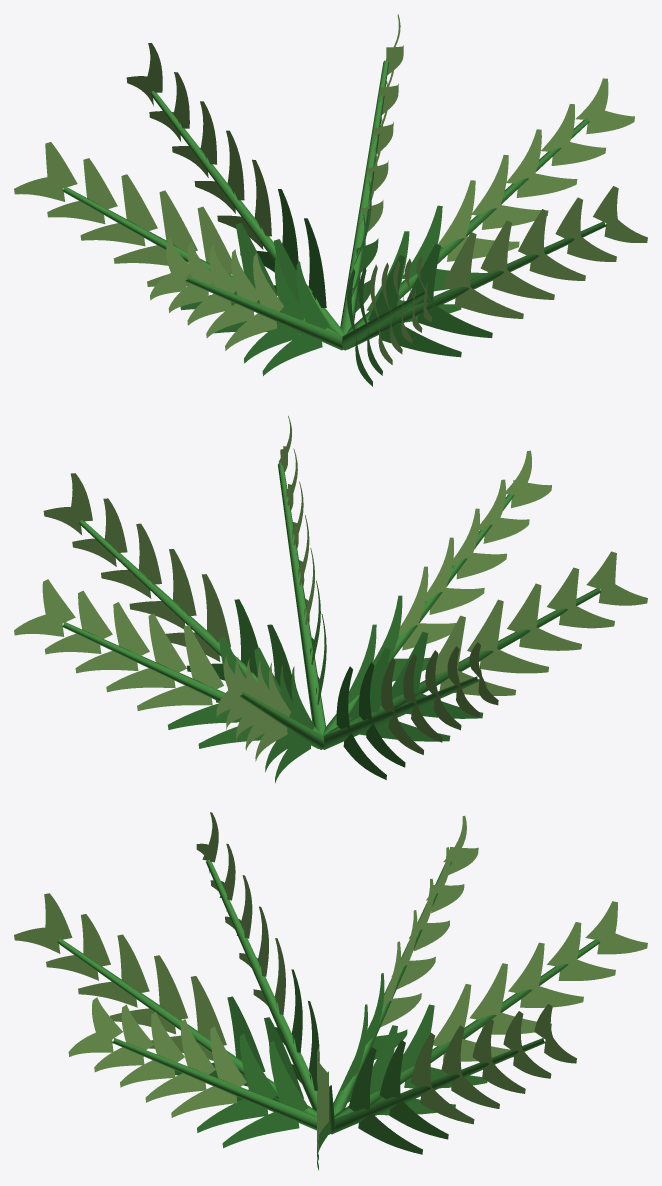
File: fern_aquatic.glb
3 views of the same model, one above another, from view 1: azimuth 30°, elevation 25°; view 2: azimuth 150°, elevation 25°; view 3: azimuth 270°, elevation 25° (orthographic).
Visible parts, largest first — view 1: fern_aquatic; view 2: fern_aquatic; view 3: fern_aquatic.
Boxes of the visible parts, x1,y1,x2,y2 form: fern_aquatic: (14,14,647,386); fern_aquatic: (14,416,647,783); fern_aquatic: (14,812,647,1170).
Size of the model in its own units: 1.04 by 0.3852 by 1.06.
